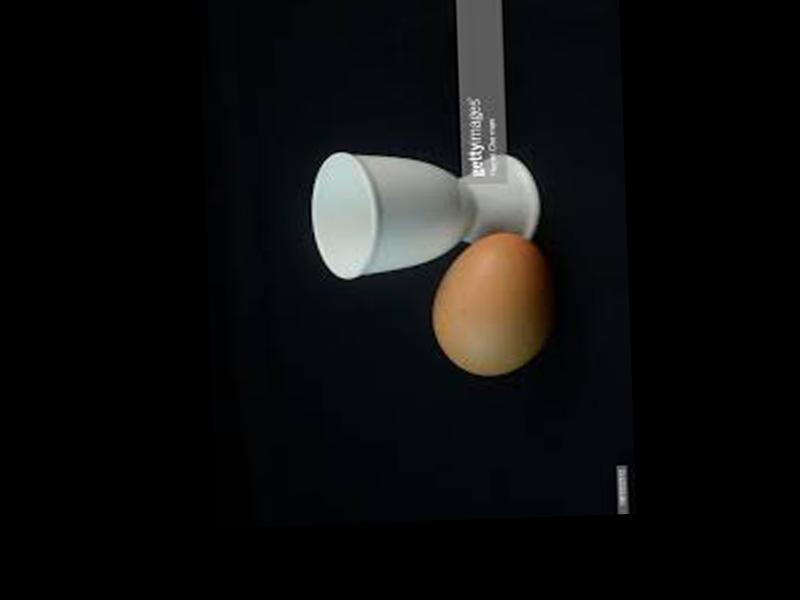Eggs: (429, 230, 549, 376)
